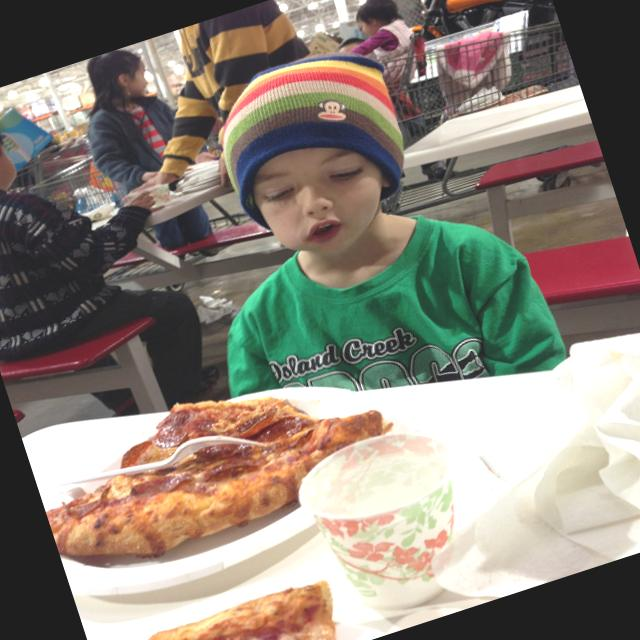Vehicle: (400, 0, 557, 58)
